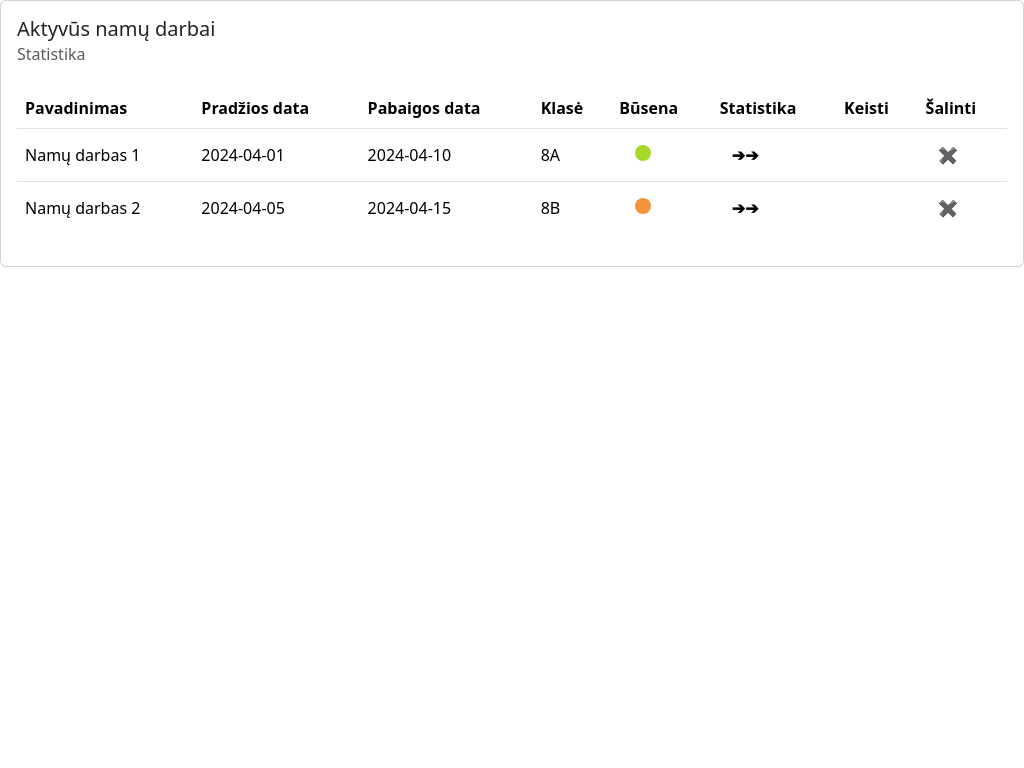
Starter component › opens modal when delete button is clicked
Click the button "✖" in the row of "Namų darbas 1" at point(948, 155), box [926,137,970,173]
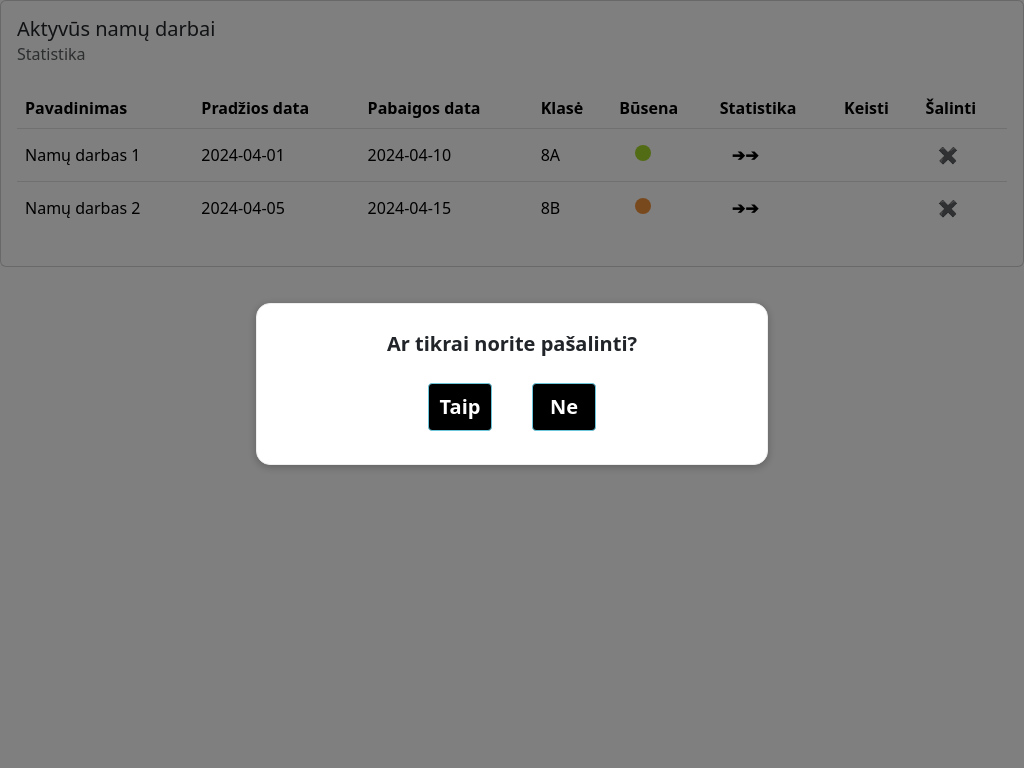
Check: the text "Ar tikrai norite pašalinti?" is shown, box [375,329,649,359]
